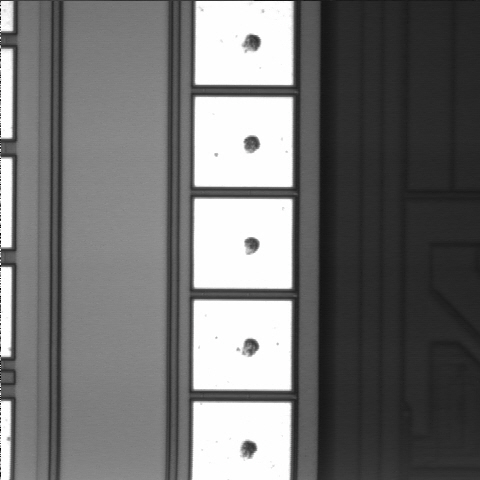pad: (193, 300, 292, 390), (195, 97, 293, 187), (194, 199, 292, 289)
